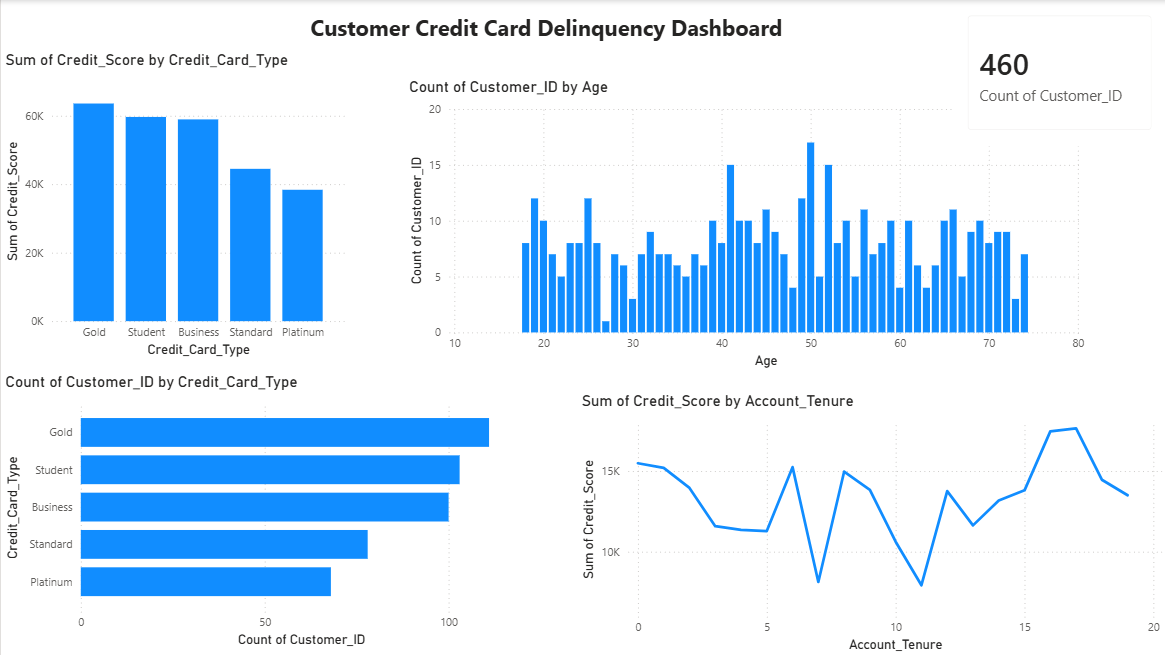

The page's visual inventory and layout, read from the dashboard file:
{"tool":"powerbi","page":{"name":"Page 1","canvas":[1280,720],"ordinal":0},"visuals":[{"type":"clusteredBarChart","fields":{"Category":["Delinquency_prediction_dataset.Credit_Card_Type"],"Y":["CountNonNull(Delinquency_prediction_dataset.Customer_ID)"]},"box":[0,408.9,587.3,306],"z":0},{"type":"clusteredColumnChart","fields":{"Category":["Delinquency_prediction_dataset.Credit_Card_Type"],"Y":["Sum(Delinquency_prediction_dataset.Credit_Score)"]},"box":[0,54.9,382.8,341.7],"z":1},{"type":"clusteredColumnChart","fields":{"Category":["Delinquency_prediction_dataset.Age"],"Y":["CountNonNull(Delinquency_prediction_dataset.Customer_ID)"]},"box":[443.2,85.1,752,323.8],"z":2},{"type":"lineChart","fields":{"Category":["Delinquency_prediction_dataset.Account_Tenure"],"Y":["Sum(Delinquency_prediction_dataset.Credit_Score)"]},"box":[632.6,429.5,647.7,290.9],"z":3},{"type":"cardVisual","fields":{"Data":["Count(Delinquency_prediction_dataset.Customer_ID)"]},"box":[1044.3,0,236,160.5],"z":4},{"type":"textbox","box":[285.4,9.6,634,45.3],"z":5}]}

Visuals, with their boxes in screenshot pixels (x1, y1, x2, y2), scaled from the page's 1280x720 canvas onto the 1165x655 screenshot:
clusteredBarChart - Delinquency_prediction_dataset.Credit_Card_Type x CountNonNull(Delinquency_prediction_dataset.Customer_ID): {"x1": 0, "y1": 372, "x2": 535, "y2": 650}
clusteredColumnChart - Delinquency_prediction_dataset.Credit_Card_Type x Sum(Delinquency_prediction_dataset.Credit_Score): {"x1": 0, "y1": 50, "x2": 348, "y2": 361}
clusteredColumnChart - Delinquency_prediction_dataset.Age x CountNonNull(Delinquency_prediction_dataset.Customer_ID): {"x1": 403, "y1": 77, "x2": 1088, "y2": 372}
lineChart - Delinquency_prediction_dataset.Account_Tenure x Sum(Delinquency_prediction_dataset.Credit_Score): {"x1": 576, "y1": 391, "x2": 1164, "y2": 654}
cardVisual - Count(Delinquency_prediction_dataset.Customer_ID): {"x1": 950, "y1": 0, "x2": 1164, "y2": 146}
textbox: {"x1": 260, "y1": 9, "x2": 837, "y2": 50}
